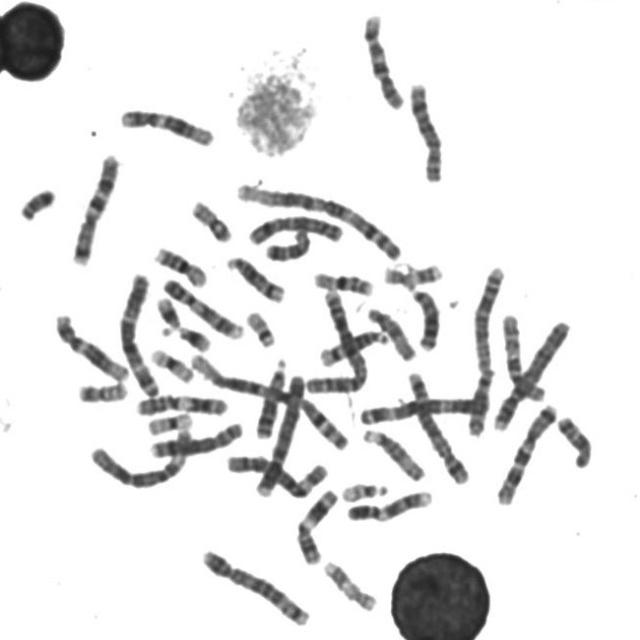A1: (182, 344, 354, 452), (231, 175, 405, 264)
A2: (463, 258, 509, 438), (300, 286, 370, 396)
A3: (114, 267, 162, 398), (353, 388, 492, 426)
B4: (487, 314, 573, 432), (248, 364, 306, 500)
B5: (195, 543, 313, 629), (402, 364, 472, 486)
C10: (357, 7, 408, 111), (496, 308, 548, 402)
C11: (290, 482, 340, 566), (130, 388, 230, 418)
C12: (48, 307, 132, 383), (114, 101, 218, 148)
C6: (83, 424, 193, 491), (220, 448, 330, 500)
C7: (490, 396, 560, 506), (66, 146, 122, 268)
C8: (403, 75, 447, 184), (145, 416, 244, 460)
C9: (159, 272, 246, 342), (342, 484, 434, 524)
D13: (250, 352, 291, 441), (406, 282, 442, 352)
D14: (220, 250, 288, 304), (314, 324, 391, 368)
D15: (358, 422, 428, 482), (362, 300, 418, 362)
E16: (148, 240, 208, 288), (308, 264, 376, 298)
E17: (318, 554, 380, 614), (377, 256, 445, 288)
E18: (552, 408, 595, 469), (260, 224, 313, 262)
F19: (145, 342, 196, 384), (142, 406, 194, 436)
F20: (185, 194, 234, 244), (72, 374, 130, 404)
G21: (151, 290, 182, 336), (172, 320, 214, 352)
G22: (240, 304, 278, 348), (336, 476, 390, 503)
X: (242, 208, 346, 246)
Y: (14, 182, 58, 222)
